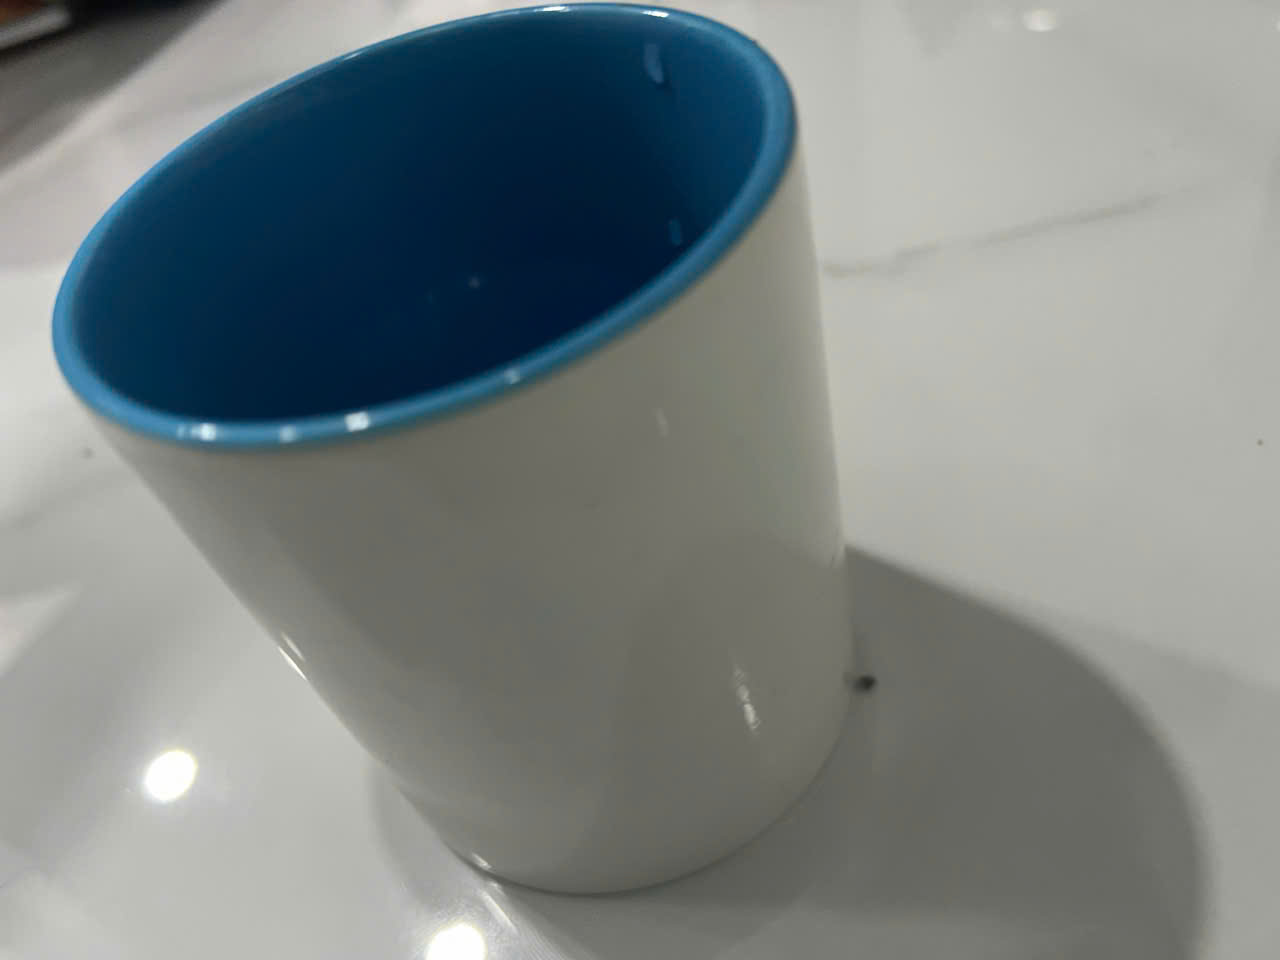ly coc: (16, 14, 989, 918)
